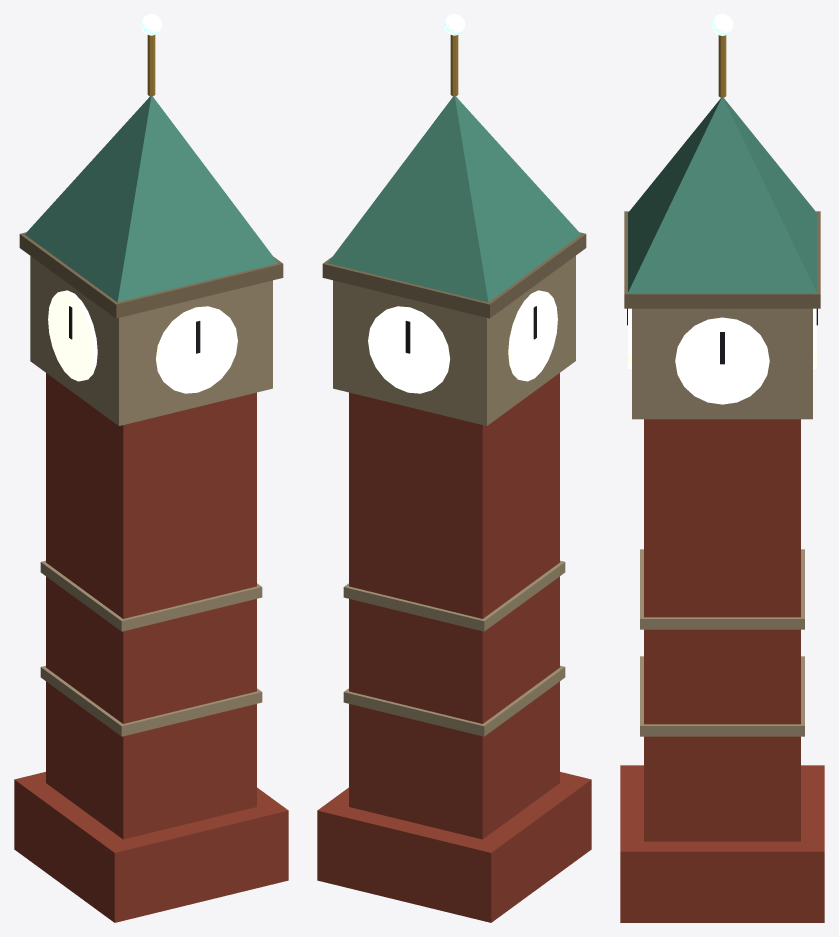
Rendered from monitoring-clocktower.glb.
3 renders of one model, left to right at view 1: azimuth 30°, elevation 25°; view 2: azimuth 150°, elevation 25°; view 3: azimuth 270°, elevation 25°, orthographic.
Visible parts, largest first — view 1: cw_paint, cw_glow; view 2: cw_paint, cw_glow; view 3: cw_paint, cw_glow.
Boxes of the visible parts, <box> form: cw_paint: <box>14,35,288,922</box>; cw_glow: <box>48,290,237,393</box>; cw_paint: <box>317,35,591,922</box>; cw_glow: <box>368,290,557,393</box>; cw_paint: <box>620,35,824,922</box>; cw_glow: <box>628,308,816,404</box>.
Bounding box in the file's own units: 2.6 × 12.14 × 2.6.
